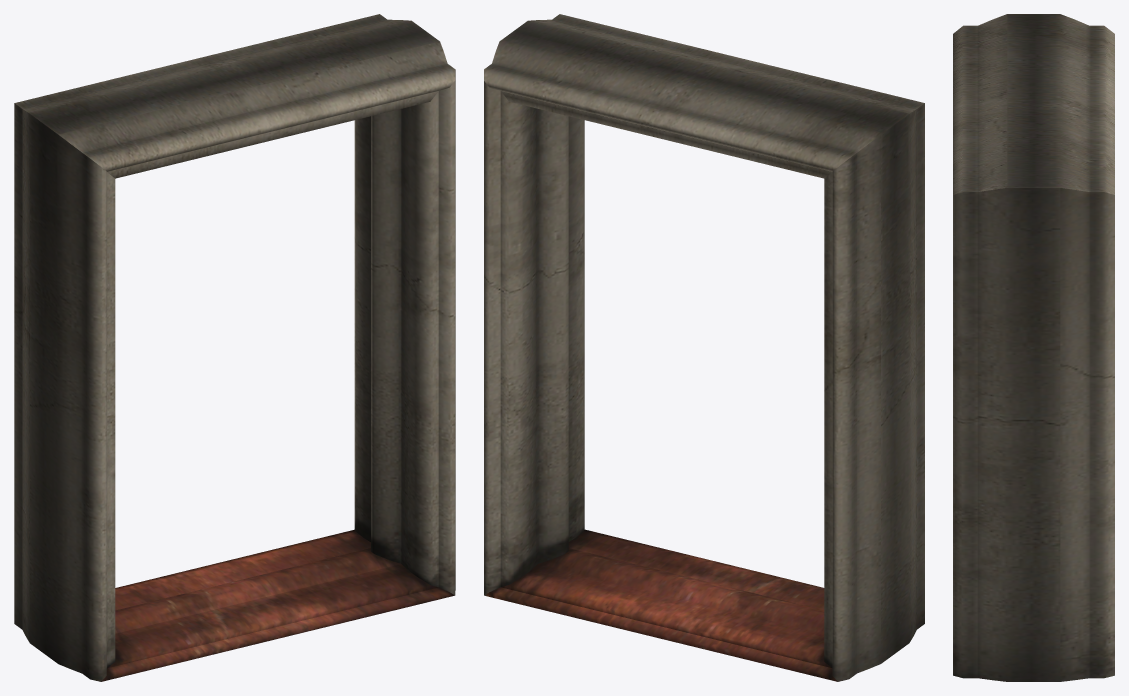
Rendered from door_frame.dae.
3 renders of one model, left to right at view 1: azimuth 30°, elevation 25°; view 2: azimuth 150°, elevation 25°; view 3: azimuth 270°, elevation 25°, orthographic. The views are drawn at different scales.
Visible parts, largest first — view 1: mansionbase_doorframe; view 2: mansionbase_doorframe; view 3: mansionbase_doorframe.
Part boxes in pixels (left/top/right/bottom): mansionbase_doorframe: left=14, top=14, right=455, bottom=681; mansionbase_doorframe: left=484, top=14, right=924, bottom=681; mansionbase_doorframe: left=953, top=14, right=1114, bottom=681.
Size of the model in its own units: 2.42 by 3.21 by 0.9526.
